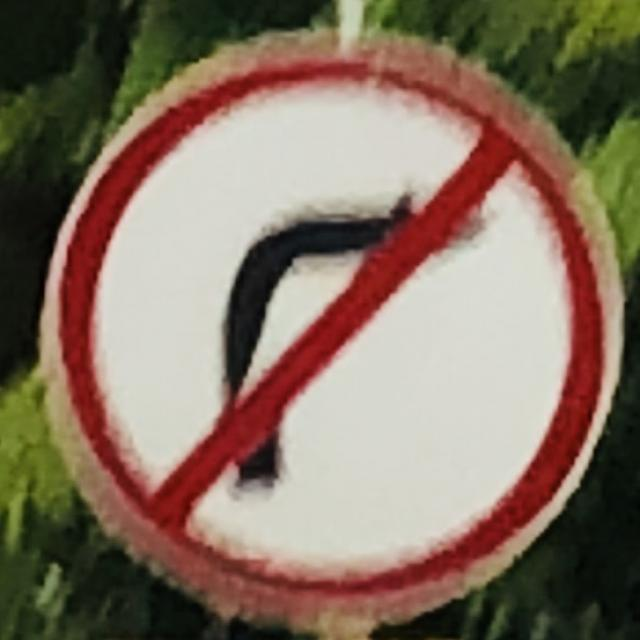right turn prohibited: (38, 30, 623, 623)
